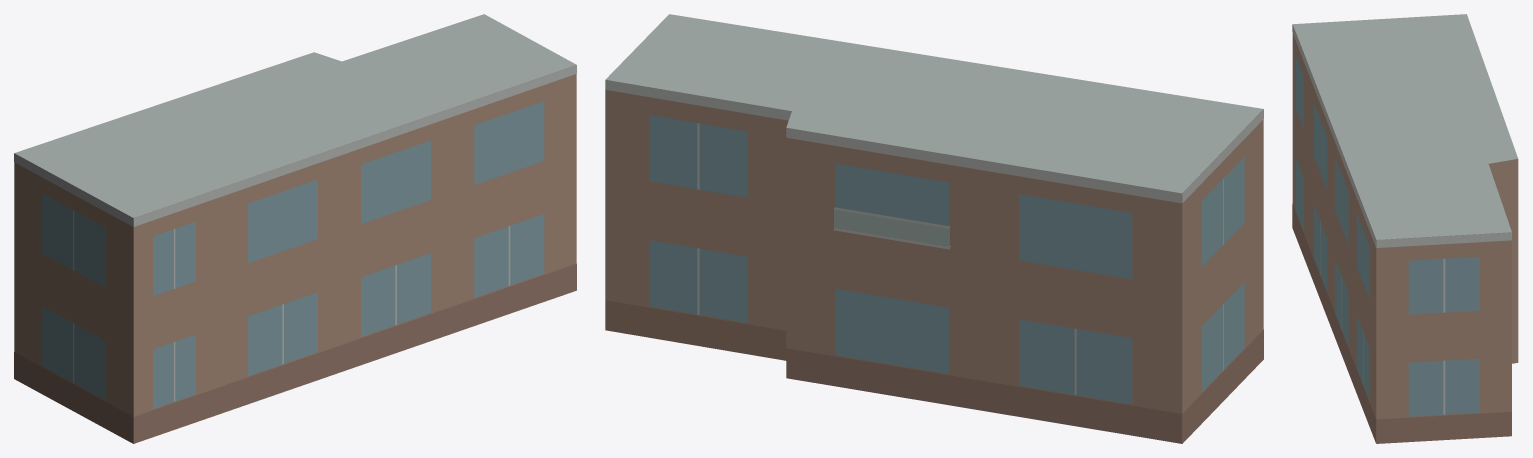
File: survey-upis-32612134.glb
The picture shows the model from 3 angles, left to right: view 1: azimuth 30°, elevation 25°; view 2: azimuth 150°, elevation 25°; view 3: azimuth 270°, elevation 25°; orthographic projection. The views are drawn at different scales.
Visible parts, largest first — view 1: survey-upis-32612134.tmp; view 2: survey-upis-32612134.tmp; view 3: survey-upis-32612134.tmp.
Boxes of the visible parts, <box> form: survey-upis-32612134.tmp: <box>14,14,576,443</box>; survey-upis-32612134.tmp: <box>605,14,1263,443</box>; survey-upis-32612134.tmp: <box>1292,14,1518,443</box>.
Size of the model in its own units: 14.5 by 6.1 by 6.13.
